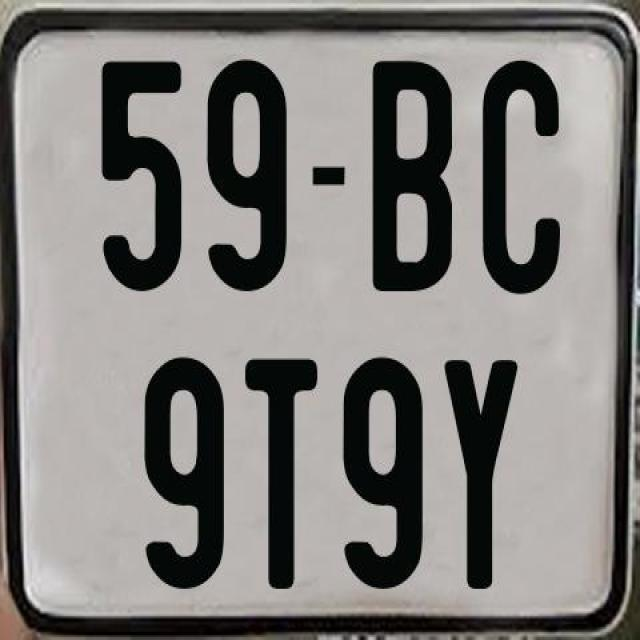5: (101, 58, 187, 298)
9: (206, 58, 294, 298), (140, 356, 222, 594), (342, 354, 426, 586)
B: (370, 61, 454, 300)
C: (481, 56, 567, 293)
T: (244, 357, 318, 589)
Y: (440, 360, 518, 590)
